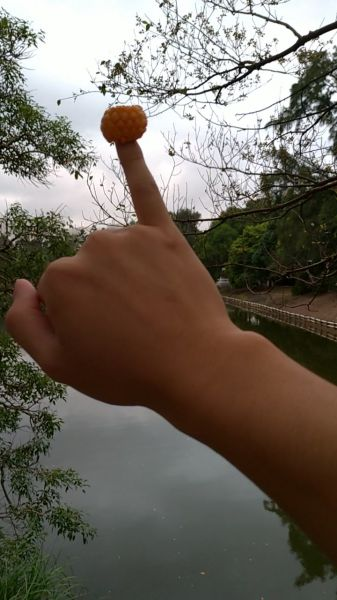eggs: (101, 106, 147, 143)
